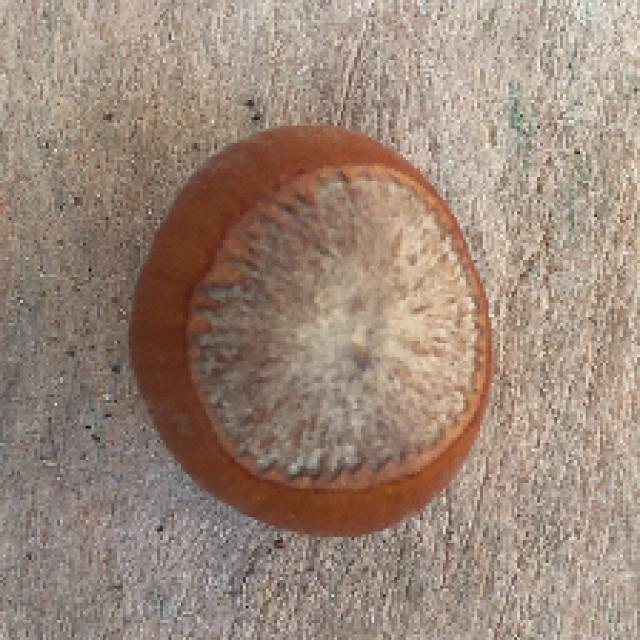QualityHazelnut: (127, 120, 498, 540)
